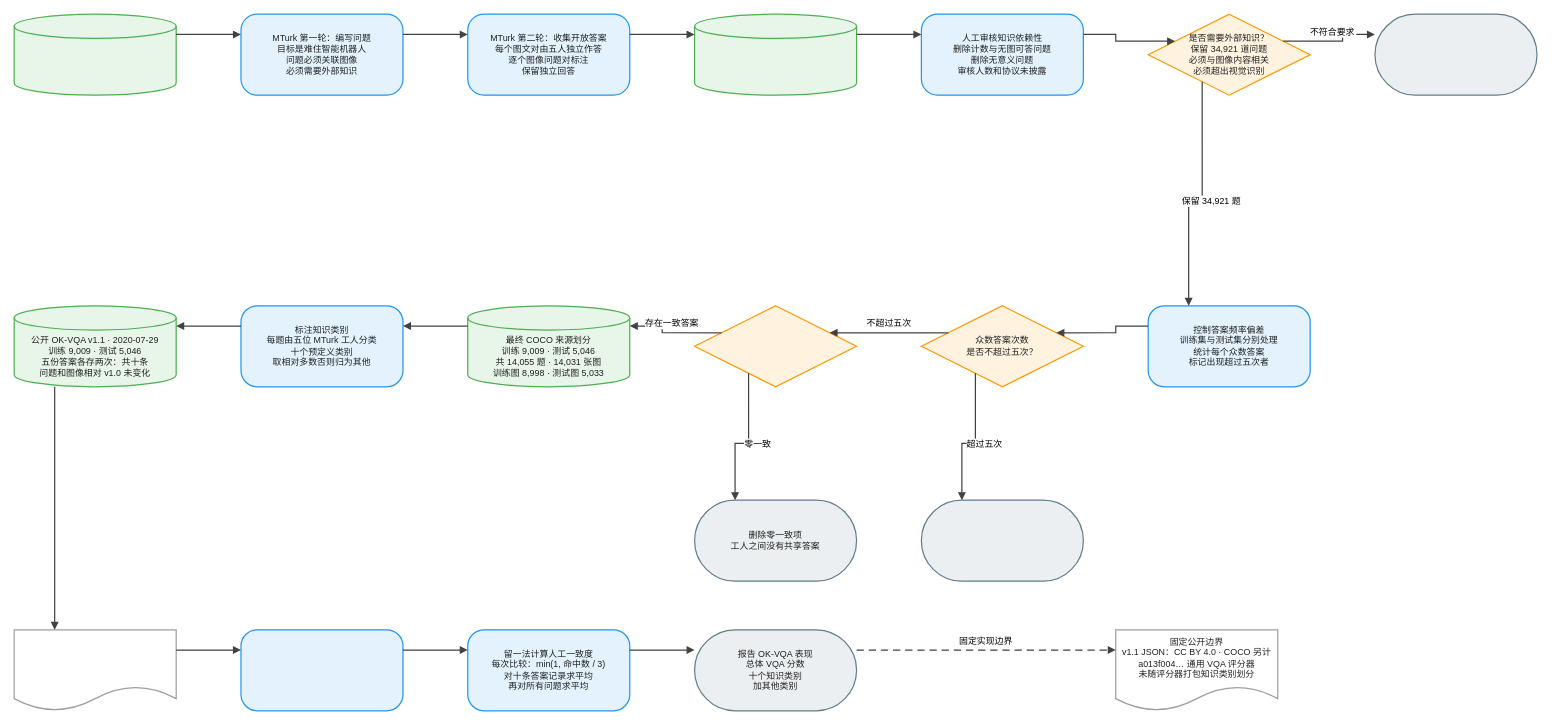
This 1552x726 diagram has some shape labels left out. The shapes that lost their labels are listed below. From the top down, each one's box as (x1, y1, x2, y2) in pixels, then its label:
(13, 13, 176, 95): 随机抽取 COCO 图像 原始约 8 万训练集 原始约 4 万验证集 对应 OK-VQA 训练与测试集
(694, 13, 857, 95): 原始众包候选池 86,700 道问题 混有知识题与低质量项 最终过滤前已经收集答案
(1374, 13, 1537, 95): 淘汰低质量候选 计数或检测题 无需图像即可回答 无意义或不依赖知识
(694, 305, 857, 387): 标注员答案是否有一致？ 比较五位工人的回答
(920, 499, 1084, 581): 删除频率偏置项 众数答案出现 超过五次
(13, 629, 176, 711): 预测一个开放答案 输入图像与问题 不提供多选项 可检索外部知识
(240, 629, 403, 711): 论文协议：规范化答案 论文要求 Porter 词干化 v1.1 的 gold answer 已预词干化 固定通用评分器不词干化预测
